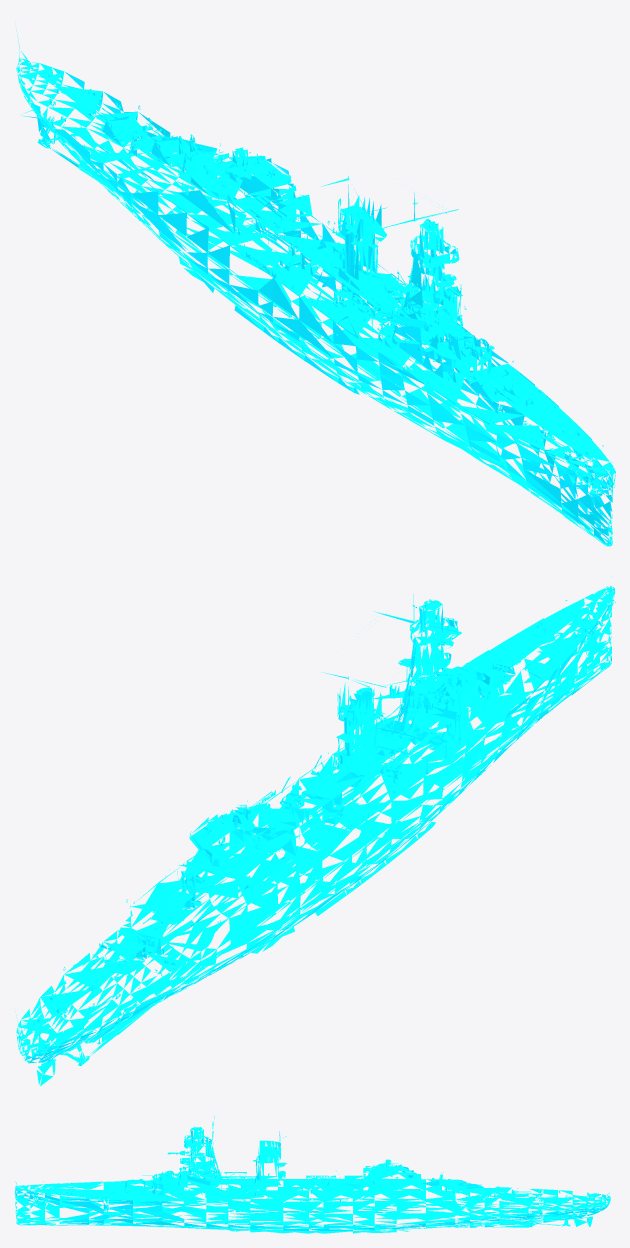
File: De_Ruyter.glb
3 views of the same model, one above another, from view 1: azimuth 30°, elevation 25°; view 2: azimuth 150°, elevation 25°; view 3: azimuth 270°, elevation 25° (orthographic). The views are drawn at different scales.
Size of the model in its own units: 1.05 by 2.37 by 11.5.
